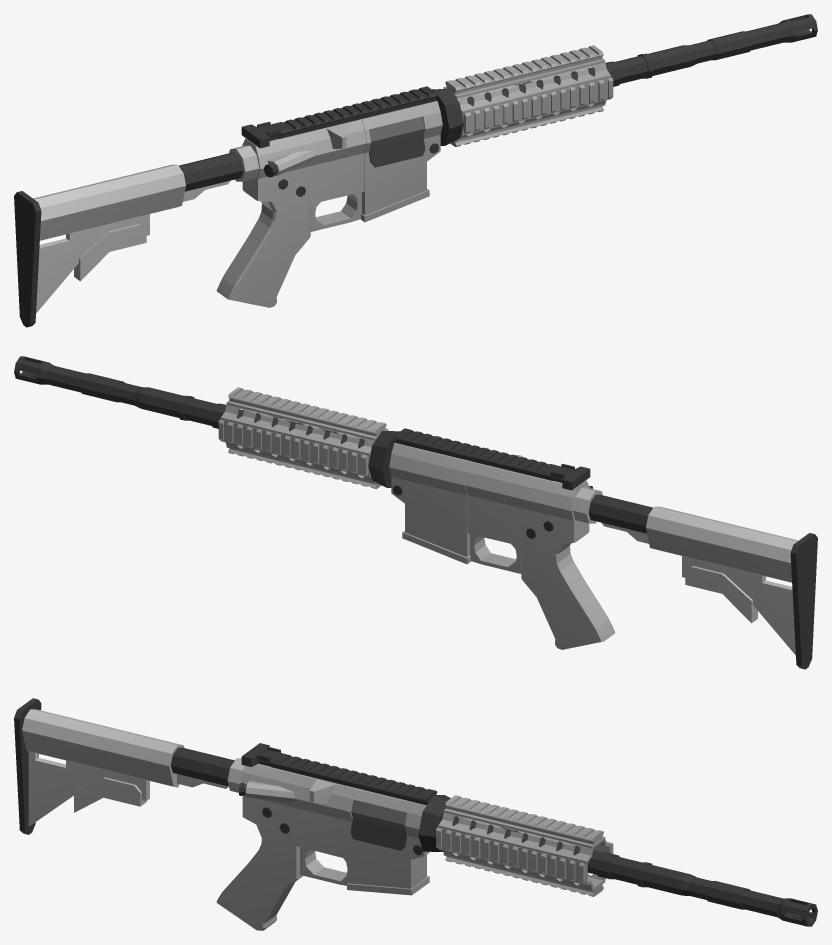
File: AssaultRifle4_04.fbx
The picture shows the model from 3 angles, top to bottom: view 1: azimuth 30°, elevation 25°; view 2: azimuth 150°, elevation 25°; view 3: azimuth 330°, elevation 25°; orthographic projection.
Visible parts, largest first — view 1: AssaultRifle4_04; view 2: AssaultRifle4_04; view 3: AssaultRifle4_04.
Part boxes in pixels (x1=…): AssaultRifle4_04: x1=14, y1=14, x2=817, y2=327; AssaultRifle4_04: x1=14, y1=356, x2=817, y2=669; AssaultRifle4_04: x1=14, y1=698, x2=817, y2=930.
Size of the model in its own units: 0.9841 by 0.2093 by 0.0717.
